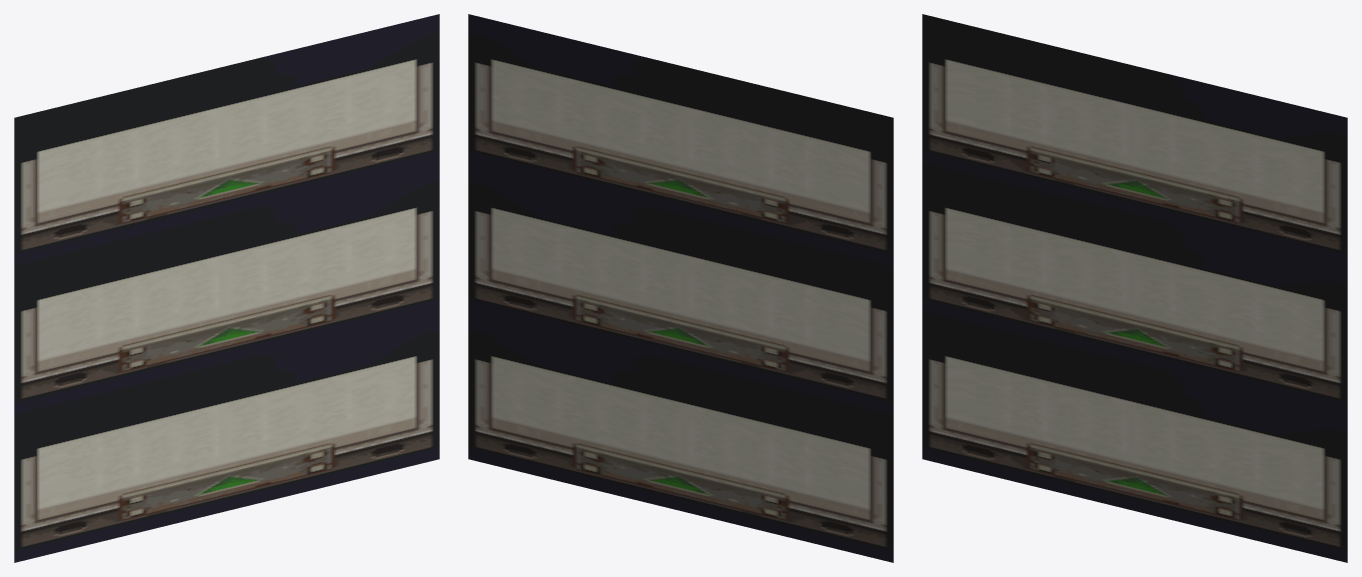
The model's file is OBJ_OilRig_StairsCap_DU.glb.
3 views of the same model, side by side, from view 1: azimuth 30°, elevation 25°; view 2: azimuth 150°, elevation 25°; view 3: azimuth 330°, elevation 25° (orthographic).
Parts seen in each view (by area): view 1: Renderer_2, Renderer_1, Renderer_3; view 2: Renderer_2, Renderer_1, Renderer_3; view 3: Renderer_2, Renderer_1, Renderer_3.
Part boxes in pixels (x1=…): Renderer_2: x1=14, y1=162, x2=439, y2=414; Renderer_1: x1=14, y1=311, x2=439, y2=562; Renderer_3: x1=14, y1=14, x2=439, y2=265; Renderer_2: x1=468, y1=162, x2=893, y2=414; Renderer_1: x1=468, y1=311, x2=893, y2=562; Renderer_3: x1=468, y1=14, x2=893, y2=265; Renderer_2: x1=922, y1=162, x2=1347, y2=414; Renderer_1: x1=922, y1=311, x2=1347, y2=562; Renderer_3: x1=922, y1=14, x2=1347, y2=265.
Size of the model in its own units: 3 by 3 by 6.07e-17.
3 materials, 3 textured.
